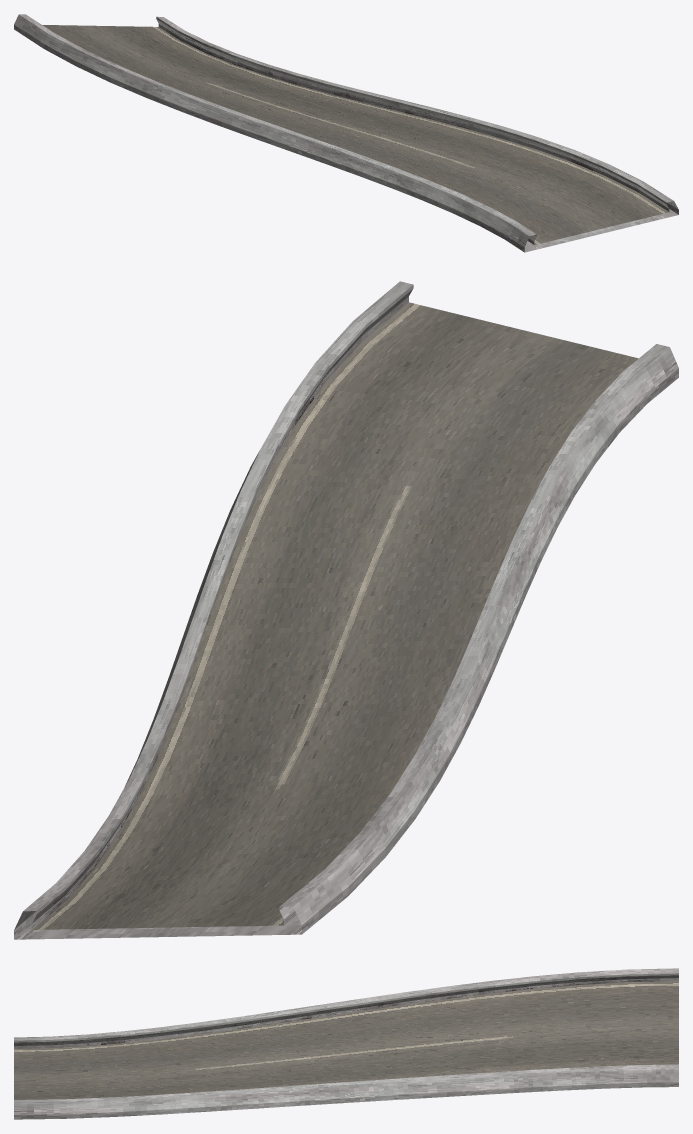
File: road-Chicane-Flat-HalfBankedRight-Down1-Left1-Size4.glb
3 views of the same model, one above another, from view 1: azimuth 30°, elevation 25°; view 2: azimuth 150°, elevation 25°; view 3: azimuth 270°, elevation 25° (orthographic). The views are drawn at different scales.
Parts seen in each view (by area): view 1: road-Chicane-Flat-HalfBankedRight-Down1-Left1-Size4; view 2: road-Chicane-Flat-HalfBankedRight-Down1-Left1-Size4; view 3: road-Chicane-Flat-HalfBankedRight-Down1-Left1-Size4.
Boxes of the visible parts, x1,y1,x2,y2 form: road-Chicane-Flat-HalfBankedRight-Down1-Left1-Size4: (14,14,678,252); road-Chicane-Flat-HalfBankedRight-Down1-Left1-Size4: (14,281,678,939); road-Chicane-Flat-HalfBankedRight-Down1-Left1-Size4: (14,968,678,1119).
Bounding box in the file's own units: 2 × 0.3438 × 4.
Materials: 2 (2 with a texture image).
